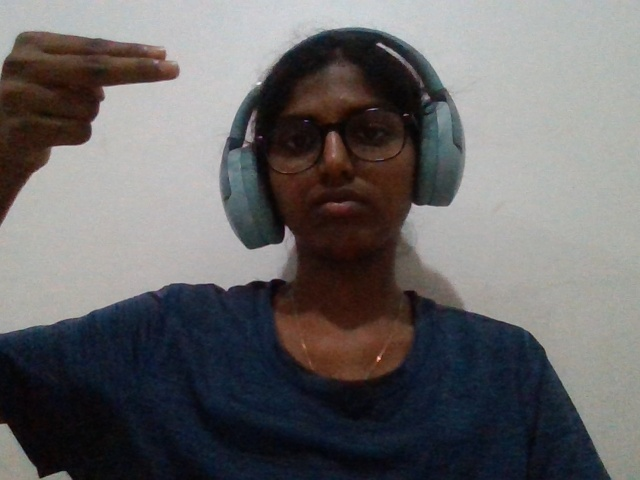H: (1, 10, 193, 243)
